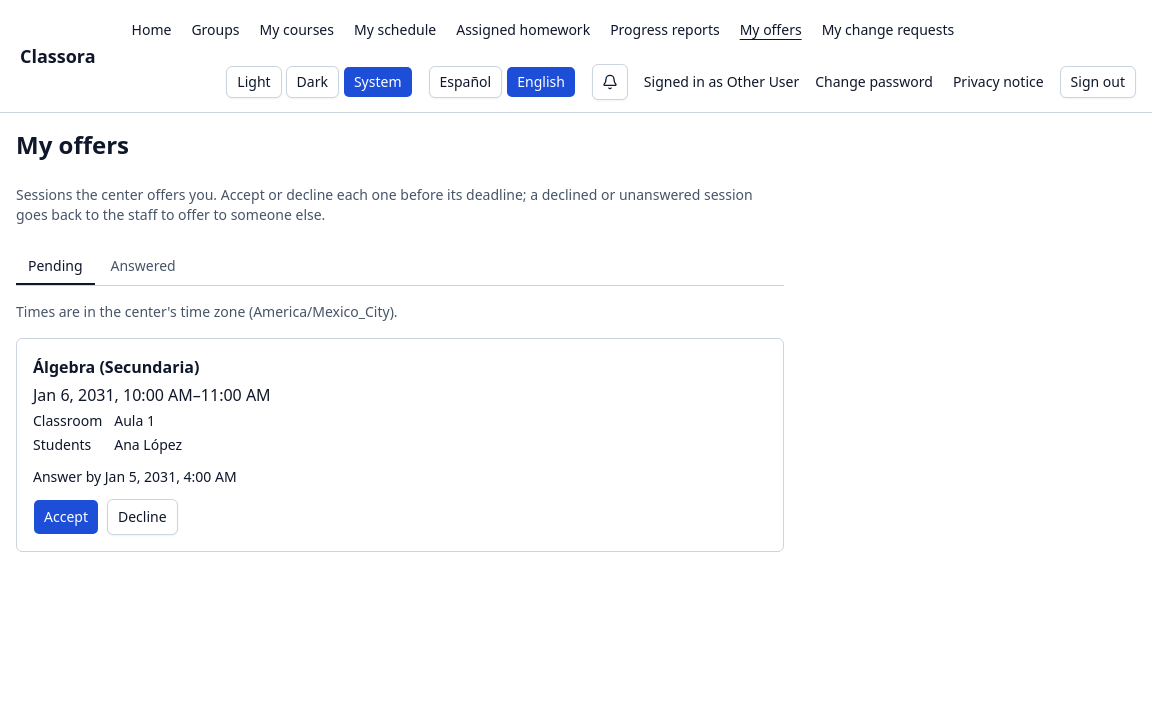
it: /offers › accepts after confirmation, announces it and refreshes
The width and height of the screenshot is (1152, 720).
Click the button "Accept" at (66, 517), box [33,499,99,535]
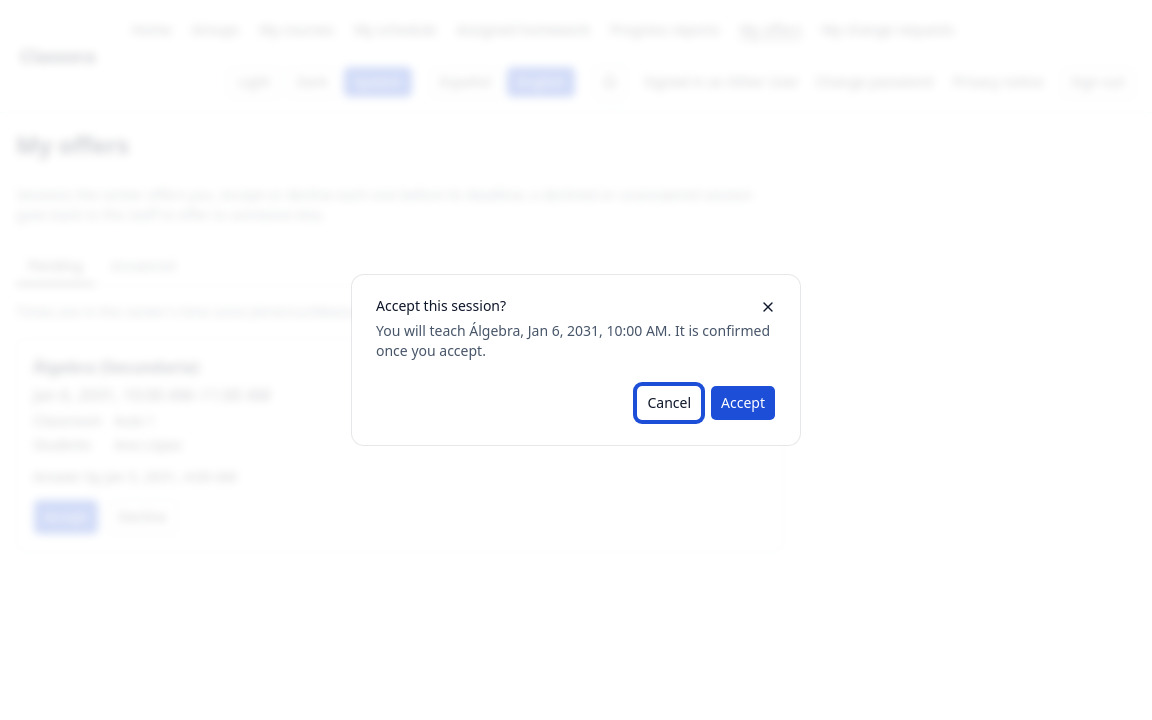
Check: the dialog shows "Accept this session?", box [376,296,506,315]
Click the button "Accept" at (743, 403), box [710,385,776,421]
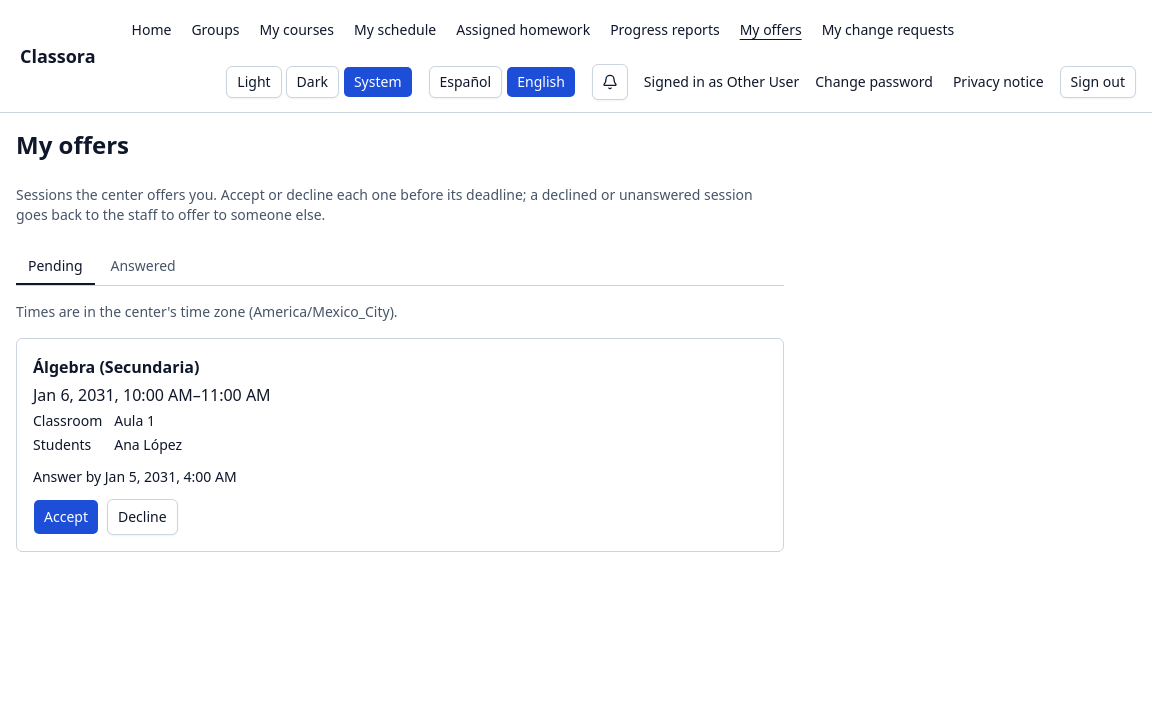
Check: the dialog is gone
